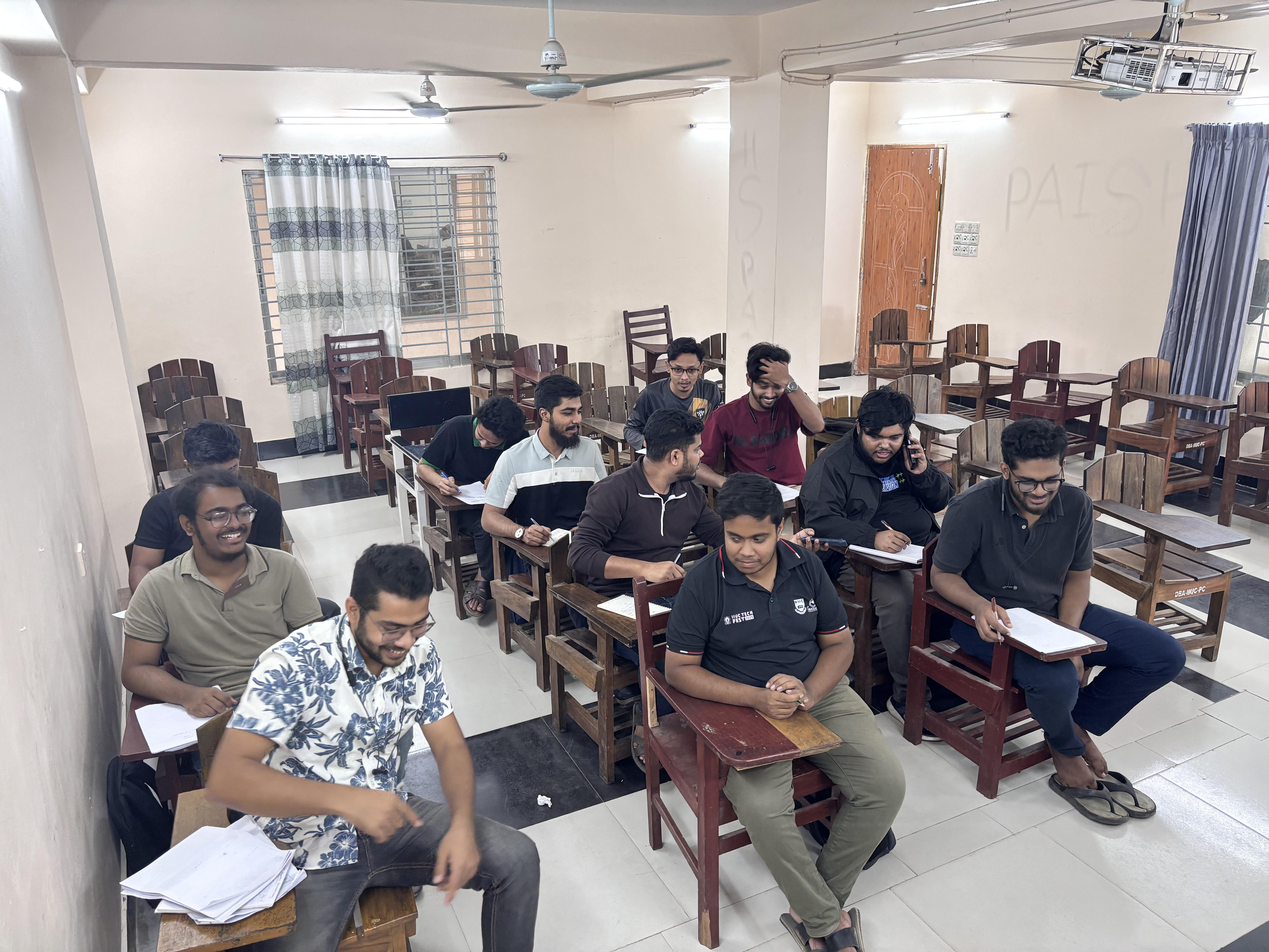copying: (584, 406, 715, 590), (514, 370, 615, 572), (704, 469, 799, 659)
no_cheating: (959, 407, 1107, 668), (715, 338, 826, 491), (421, 397, 533, 514), (632, 326, 723, 456)
suspicious_moving: (260, 540, 480, 923)
using_phone: (826, 378, 954, 594)
